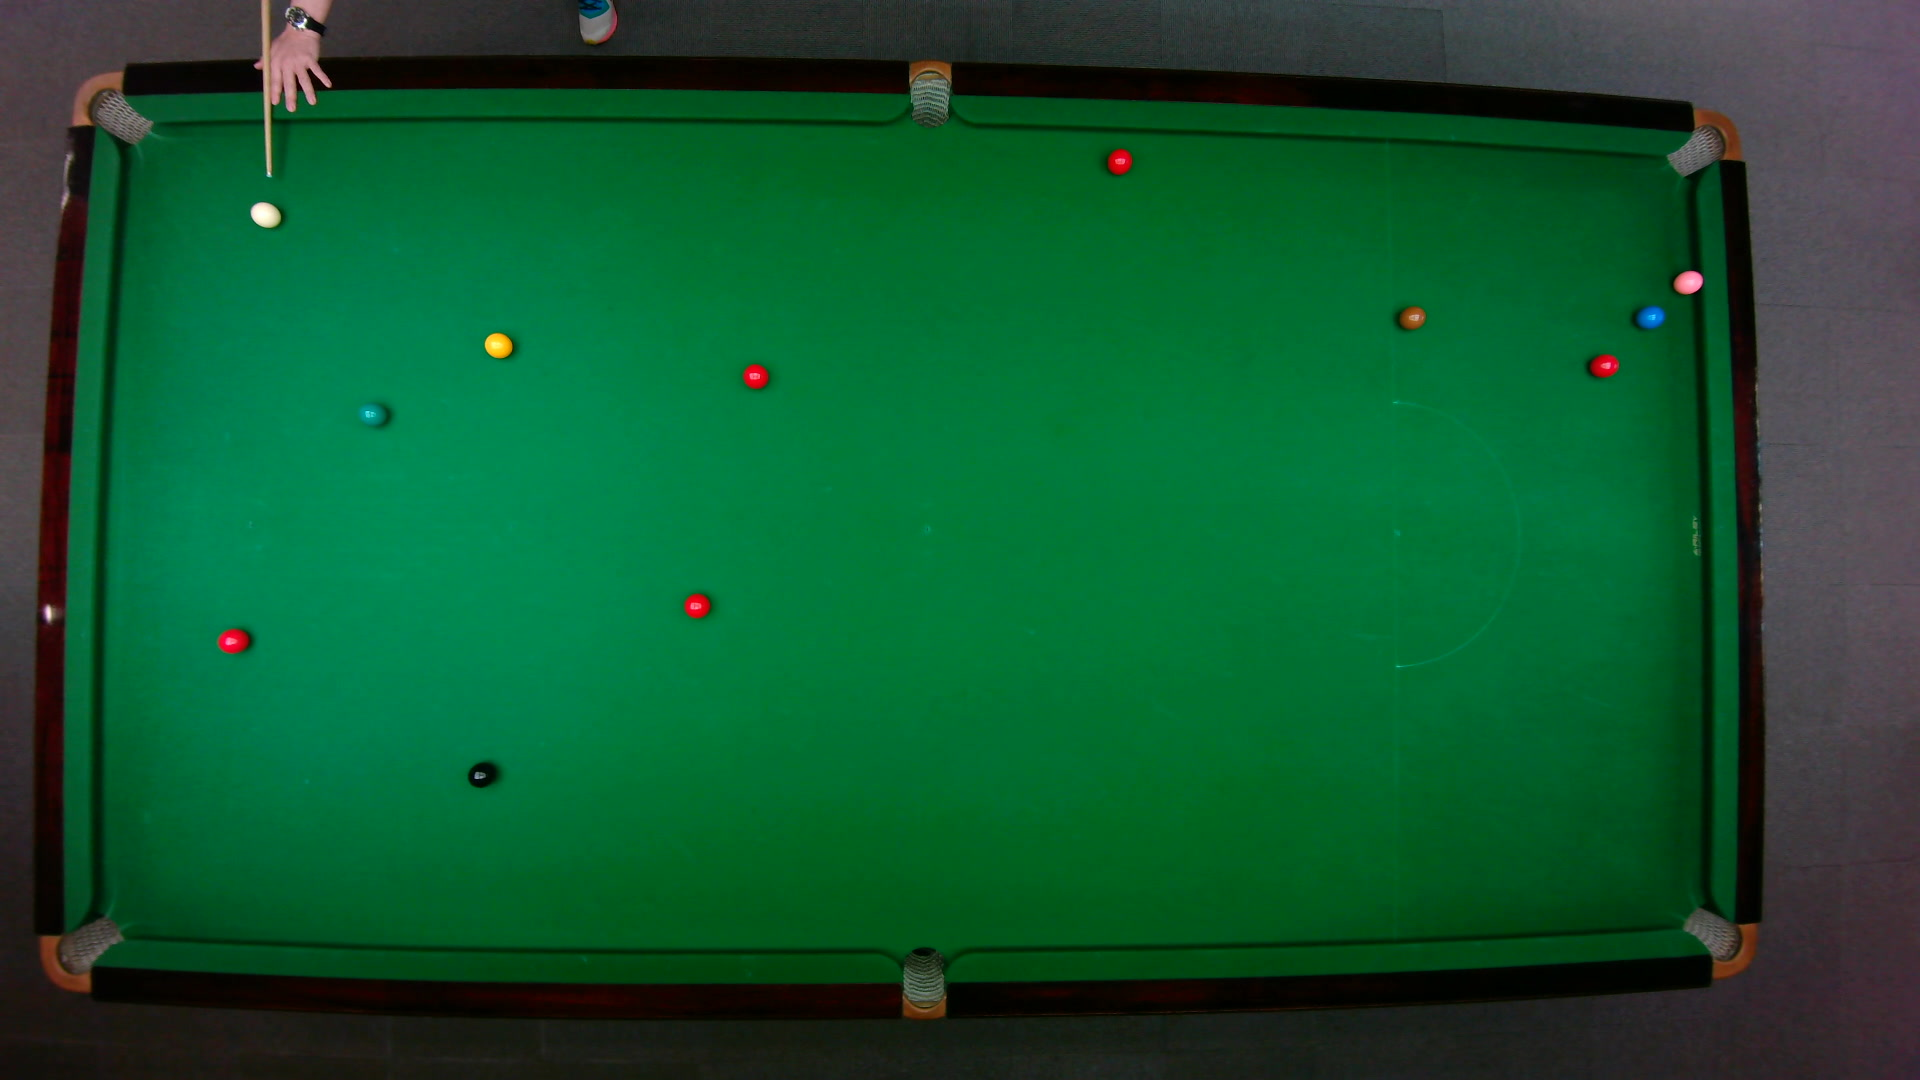bag: (37, 914, 125, 993), (70, 69, 154, 144), (1680, 905, 1758, 978), (1663, 107, 1741, 177), (901, 944, 944, 1021), (909, 57, 949, 128)
black: (465, 760, 496, 789)
blue: (1634, 303, 1665, 328)
brown: (1396, 305, 1427, 328)
cue: (260, 1, 276, 179)
green: (356, 401, 386, 426)
pink: (1669, 266, 1705, 295)
red: (216, 626, 251, 653), (1586, 352, 1619, 378), (1104, 146, 1133, 175), (682, 592, 709, 618), (741, 363, 767, 388)
white: (248, 199, 282, 228)
yellow: (483, 330, 513, 357)
zone: (1390, 400, 1520, 669)
